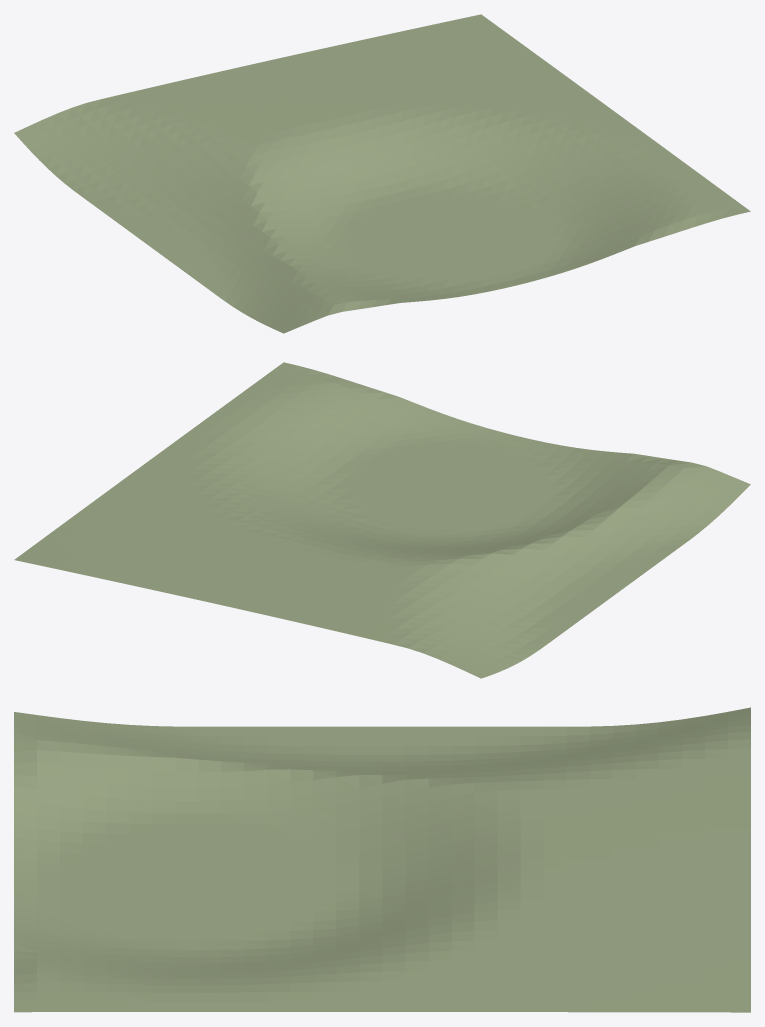
Rendered from gardens-7-2.glb.
3 renders of one model, top to bottom at view 1: azimuth 30°, elevation 25°; view 2: azimuth 150°, elevation 25°; view 3: azimuth 270°, elevation 25°, orthographic. The views are drawn at different scales.
Parts seen in each view (by area): view 1: gardens-7-2; view 2: gardens-7-2; view 3: gardens-7-2.
Part boxes in pixels (x1,y1,x2,y2): gardens-7-2: (14,14,750,333); gardens-7-2: (14,362,750,678); gardens-7-2: (14,707,750,1012).
Bounding box in the file's own units: 256 × 13.91 × 256.
